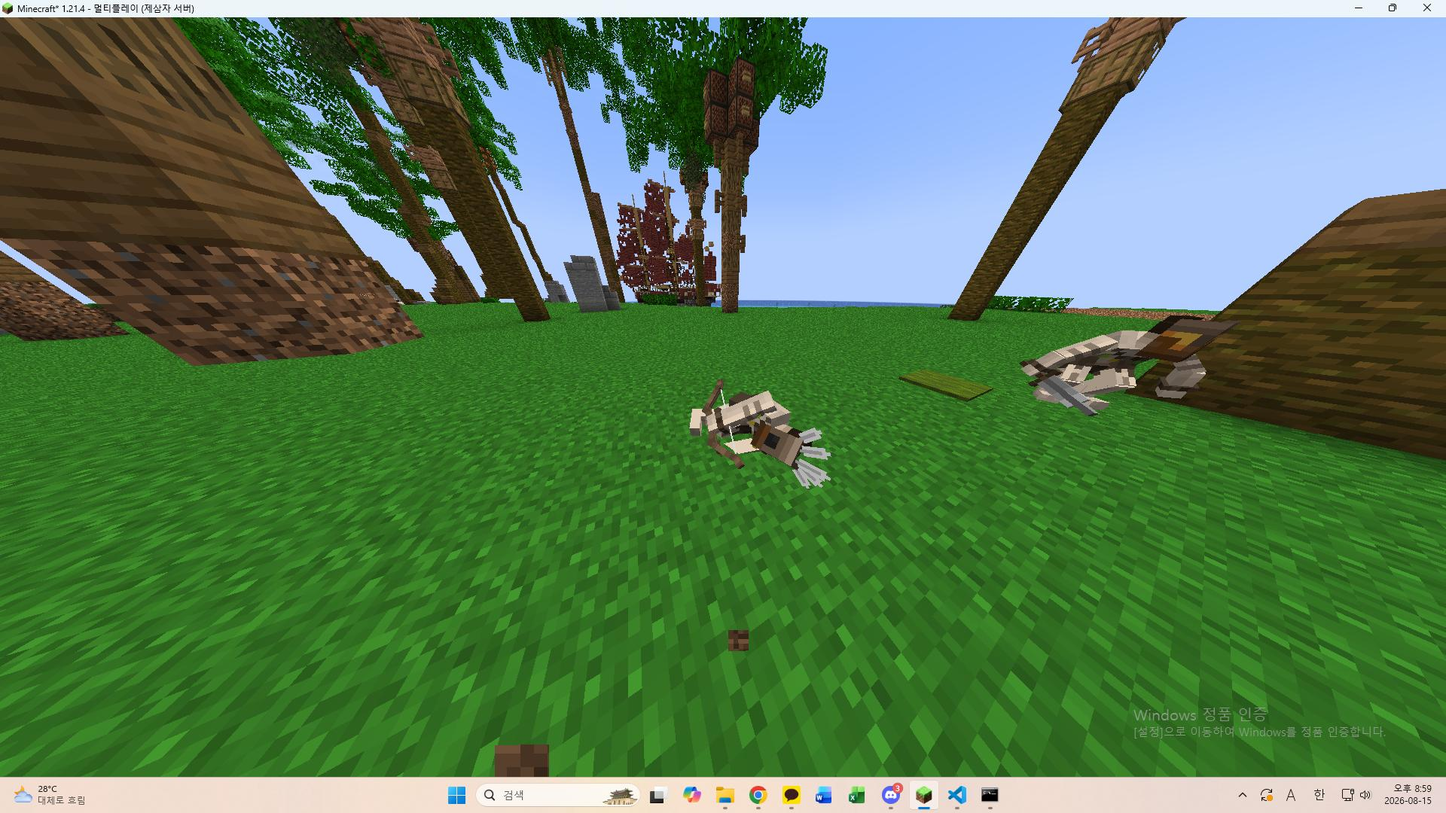bow_indian: (676, 371, 852, 488)
